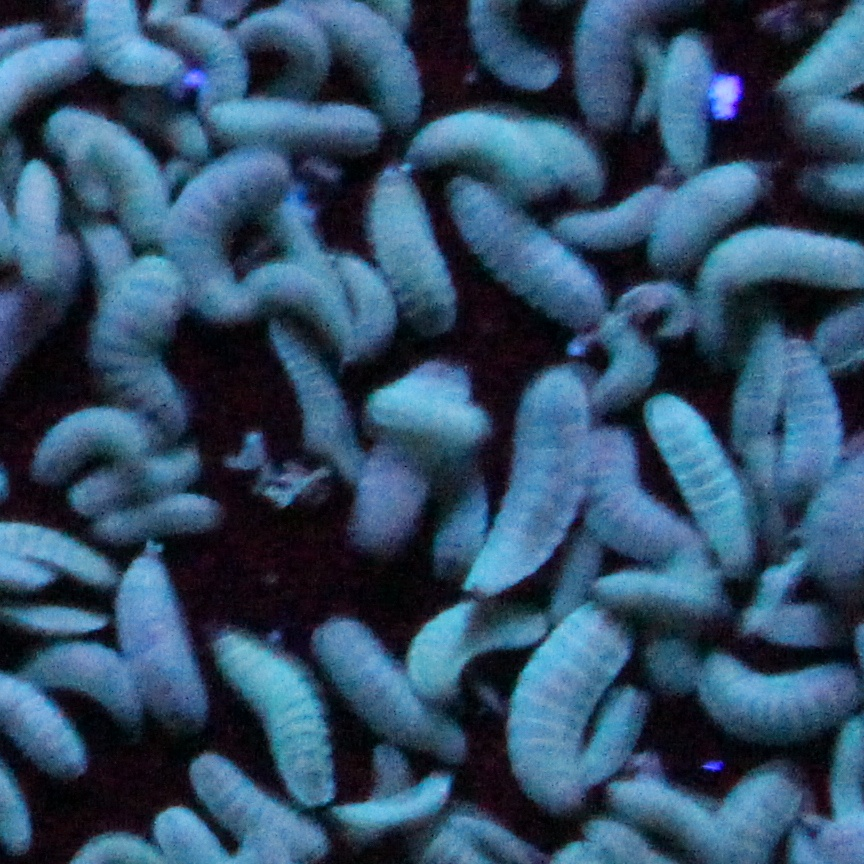larve: (473, 375, 569, 594), (312, 621, 473, 739), (654, 397, 747, 572), (228, 631, 328, 790), (465, 197, 584, 323), (348, 414, 452, 550), (98, 253, 176, 434), (517, 609, 591, 797), (373, 183, 459, 334), (248, 317, 344, 450), (121, 560, 202, 709), (180, 164, 262, 310), (708, 653, 850, 737), (162, 17, 241, 107), (782, 340, 836, 470), (663, 31, 711, 169), (248, 14, 330, 92), (2, 35, 66, 132), (436, 114, 523, 183), (666, 173, 718, 270), (19, 153, 59, 271), (535, 127, 595, 183), (582, 204, 663, 243), (91, 450, 187, 478), (751, 326, 776, 423), (98, 500, 209, 521)
